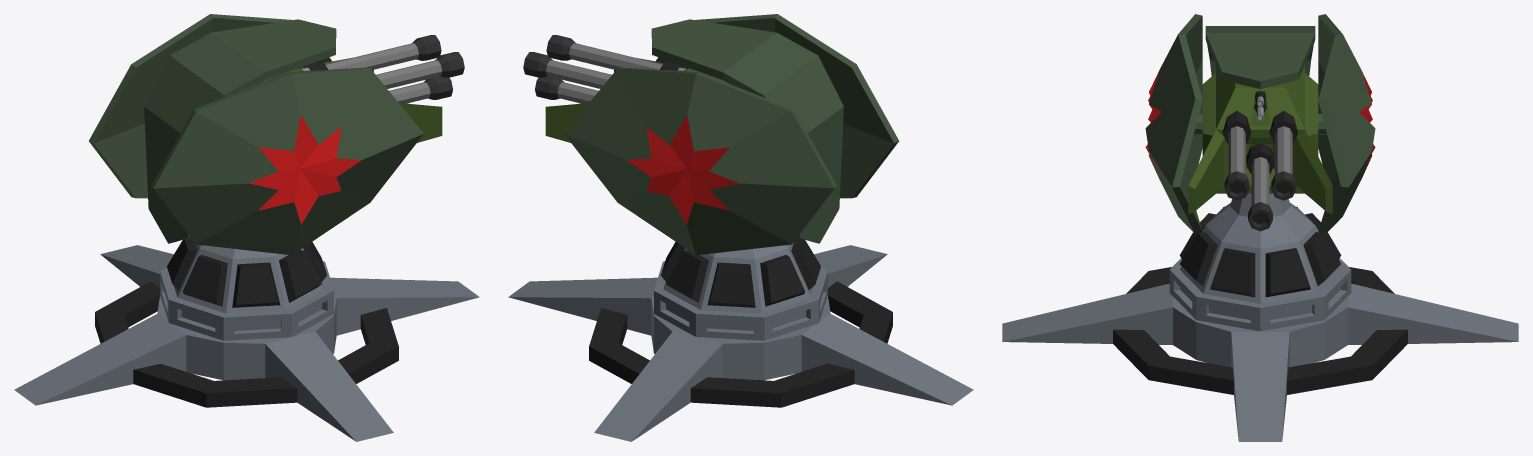
The model's file is Turret 8.fbx.
3 views of the same model, side by side, from view 1: azimuth 30°, elevation 25°; view 2: azimuth 150°, elevation 25°; view 3: azimuth 270°, elevation 25° (orthographic).
Parts seen in each view (by area): view 1: Куб.038, Куб.034; view 2: Куб.038, Куб.034; view 3: Куб.034, Куб.038.
Part boxes in pixels (<box>): Куб.038: <box>89,14,464,255</box>; Куб.034: <box>14,237,479,441</box>; Куб.038: <box>523,14,898,255</box>; Куб.034: <box>508,237,973,441</box>; Куб.034: <box>1002,193,1518,441</box>; Куб.038: <box>1145,14,1375,234</box>.
Size of the model in its own units: 126 by 81.18 by 126.
